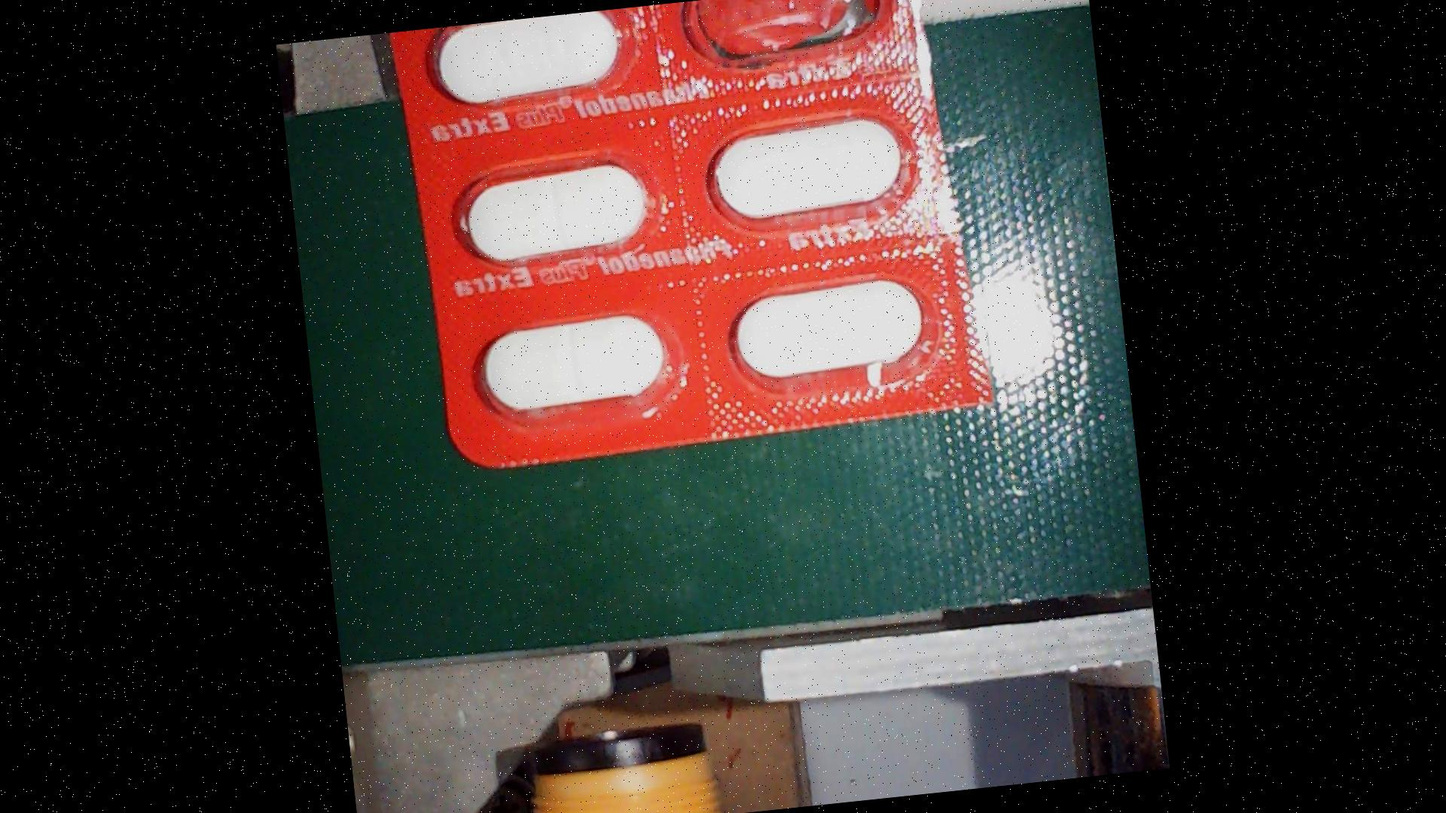Empty: (675, 0, 901, 73)
Full: (690, 93, 925, 237), (707, 260, 941, 404), (451, 287, 685, 431), (439, 139, 673, 283), (416, 1, 644, 117)
